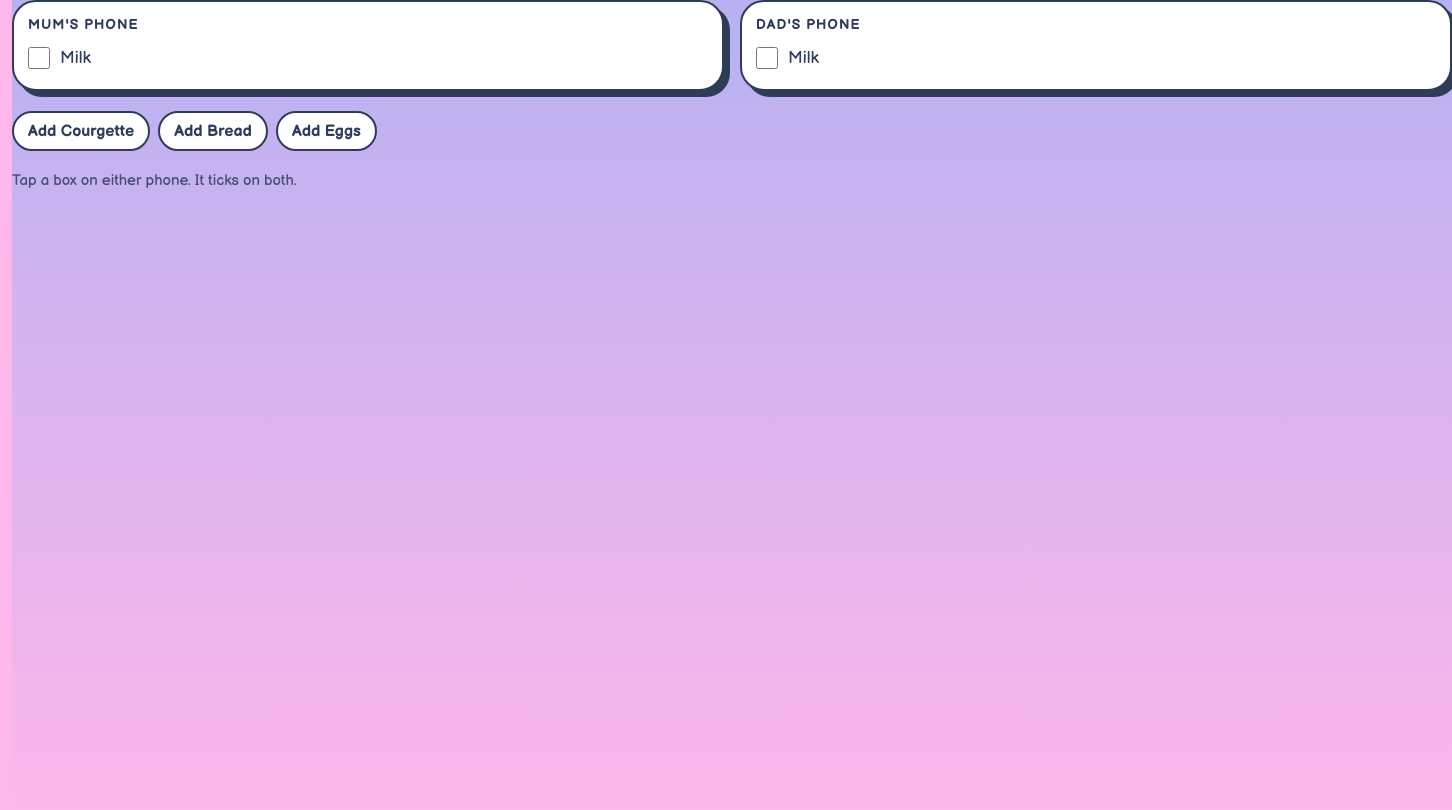
SharedListDemo › ticks an item on both phones when it is ticked on one
Click the button "Add Courgette" at (81, 131), box [12, 111, 150, 151]
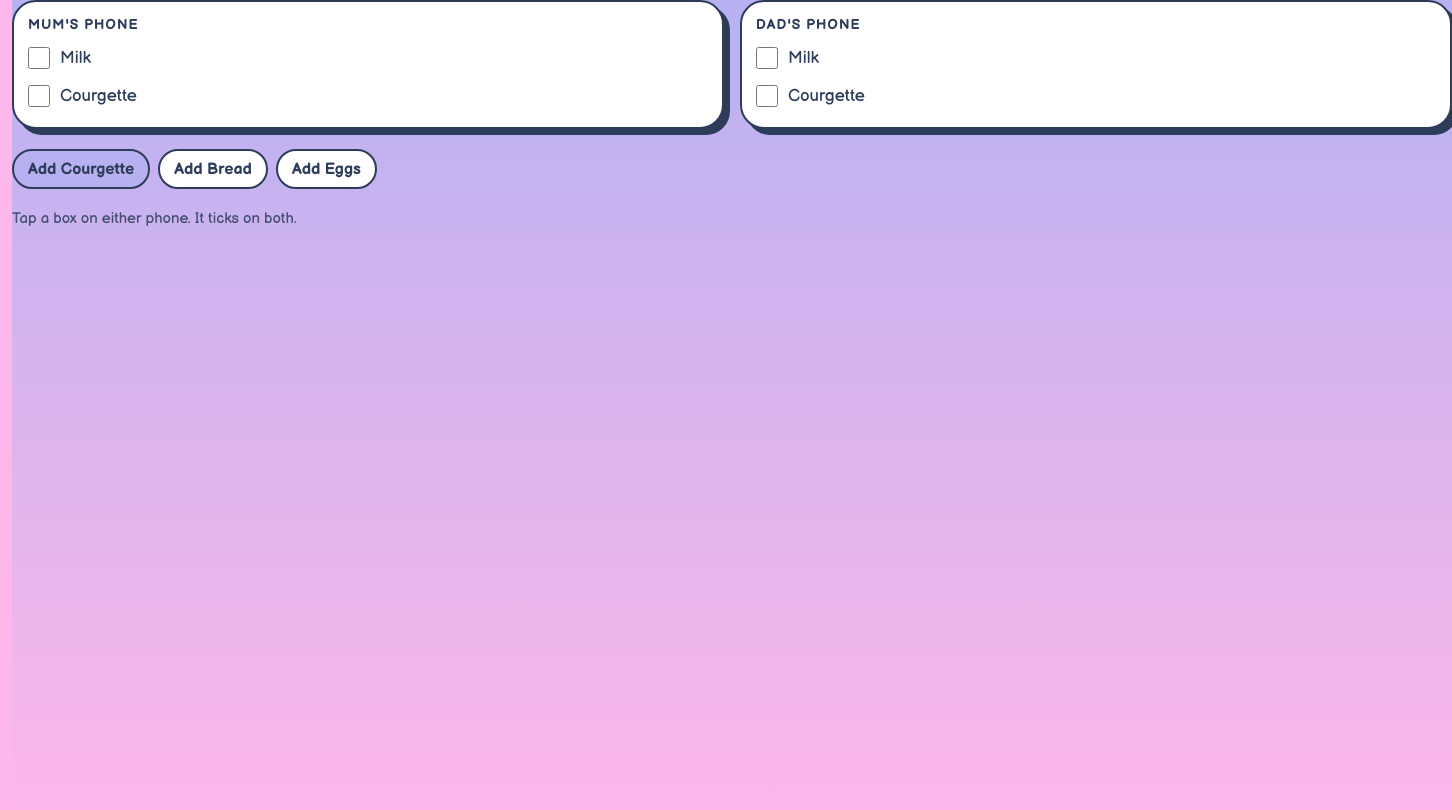
Click the checkbox labelled "Courgette" below "Dad's phone" at (767, 96), box [756, 85, 778, 107]
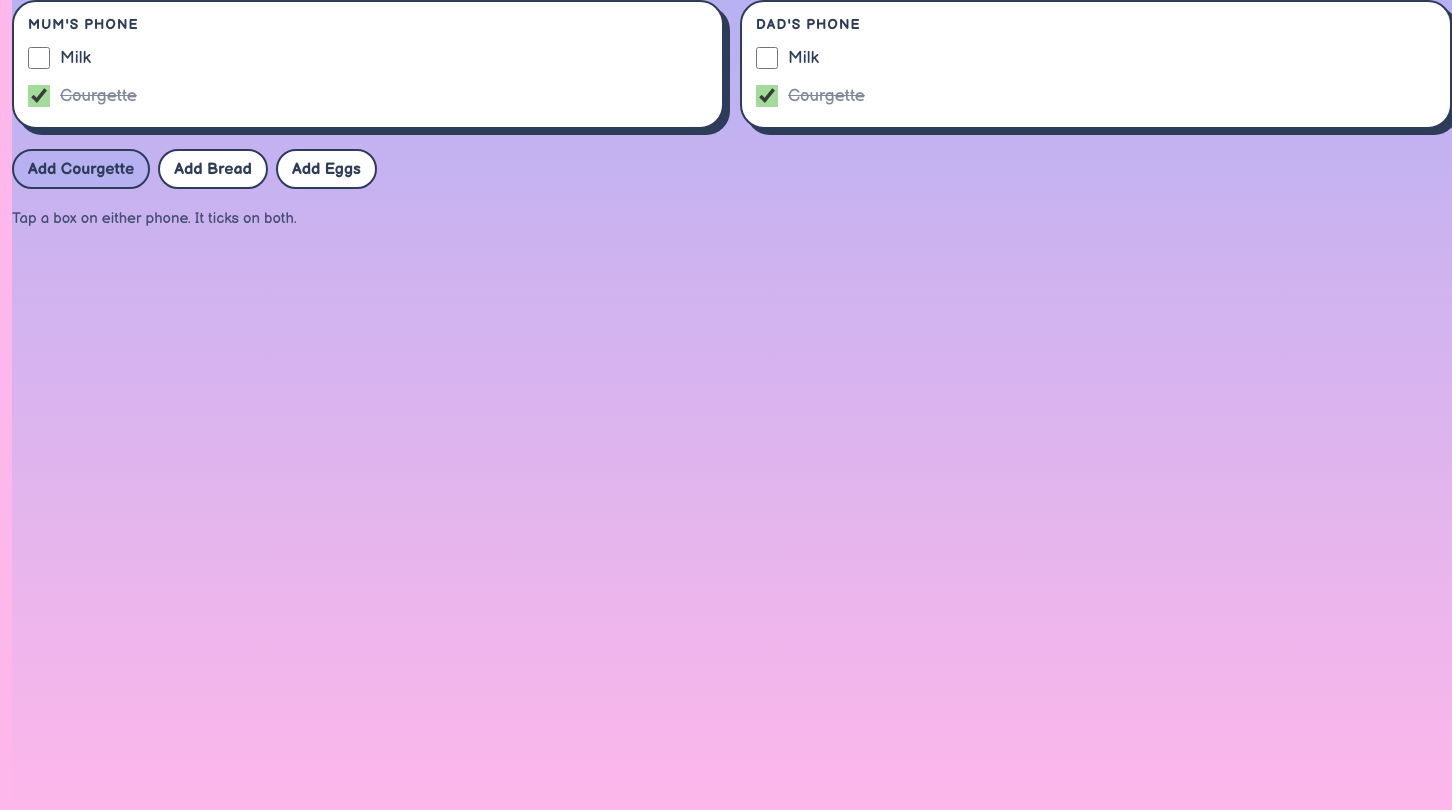
Expected: the checkbox labelled "Courgette" below "Dad's phone" is checked, [756, 85, 778, 107]
Expected: the checkbox labelled "Courgette" below "Mum's phone" is checked, [28, 85, 50, 107]
